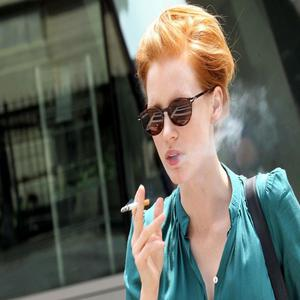cigarette: (119, 198, 152, 213)
